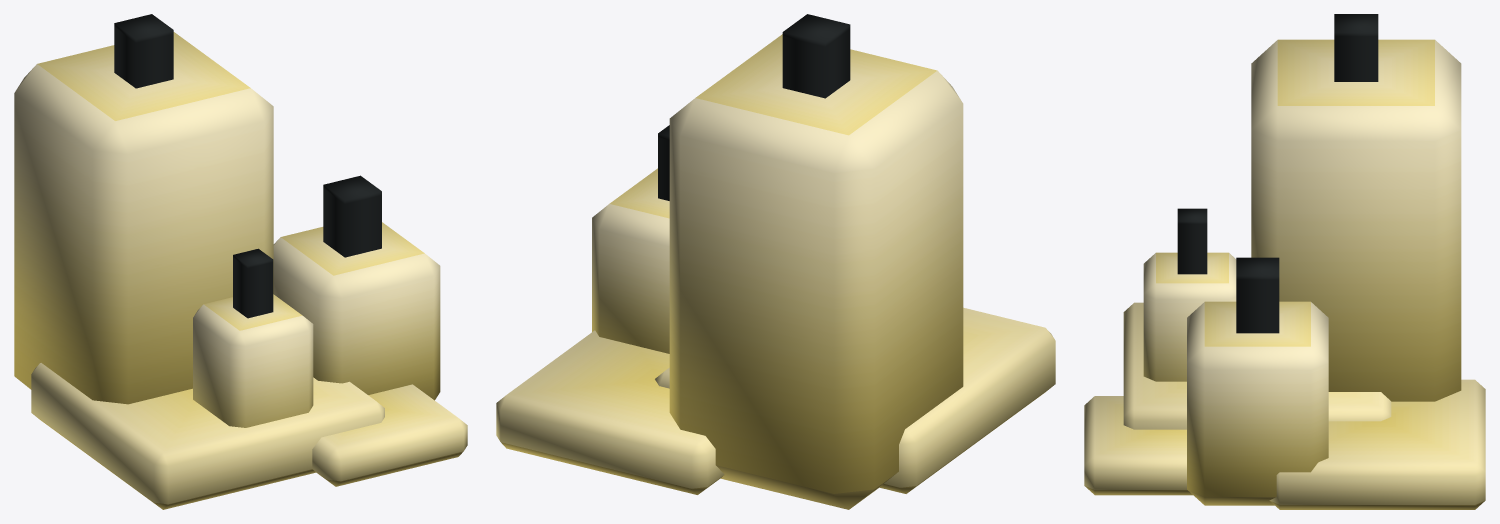
The model's file is candle_arrangement_2.fbx.
3 renders of one model, left to right at view 1: azimuth 30°, elevation 25°; view 2: azimuth 150°, elevation 25°; view 3: azimuth 270°, elevation 25°, orthographic. The views are drawn at different scales.
Parts seen in each view (by area): view 1: candle_arrangement_2; view 2: candle_arrangement_2; view 3: candle_arrangement_2.
Boxes of the visible parts, x1=… form: candle_arrangement_2: x1=14, y1=14, x2=467, y2=509; candle_arrangement_2: x1=496, y1=14, x2=1055, y2=509; candle_arrangement_2: x1=1084, y1=14, x2=1485, y2=509.
Size of the model in its own units: 71.48 by 80.1 by 76.36.
